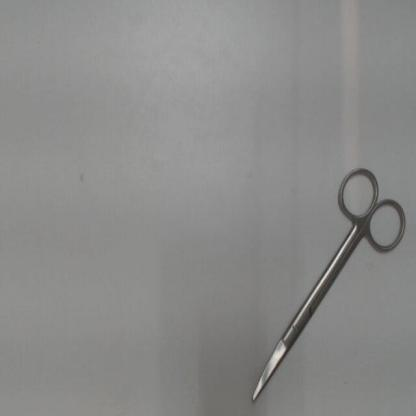Curved Mayo Scissors: (246, 163, 410, 408)
